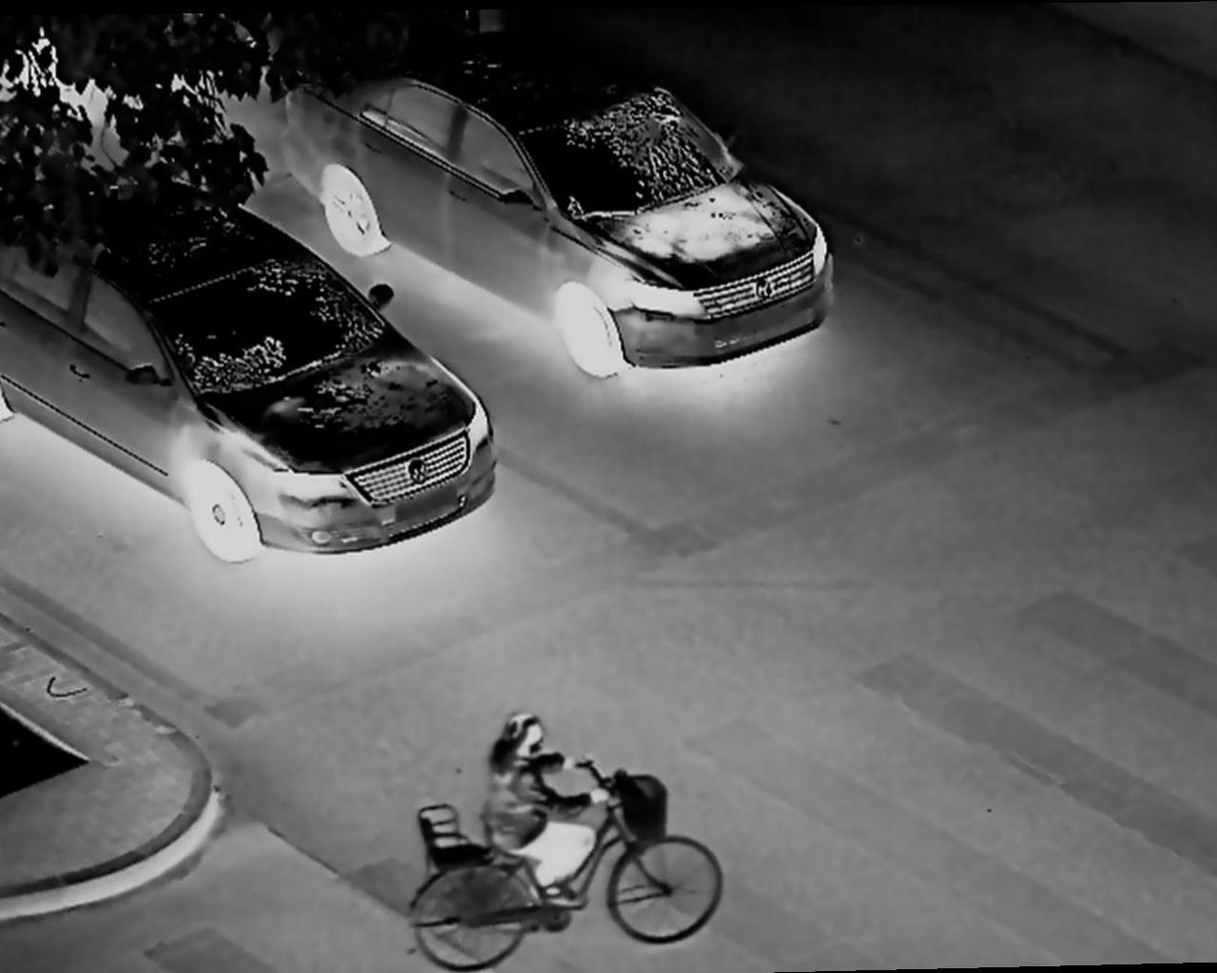person: (478, 709, 602, 936)
